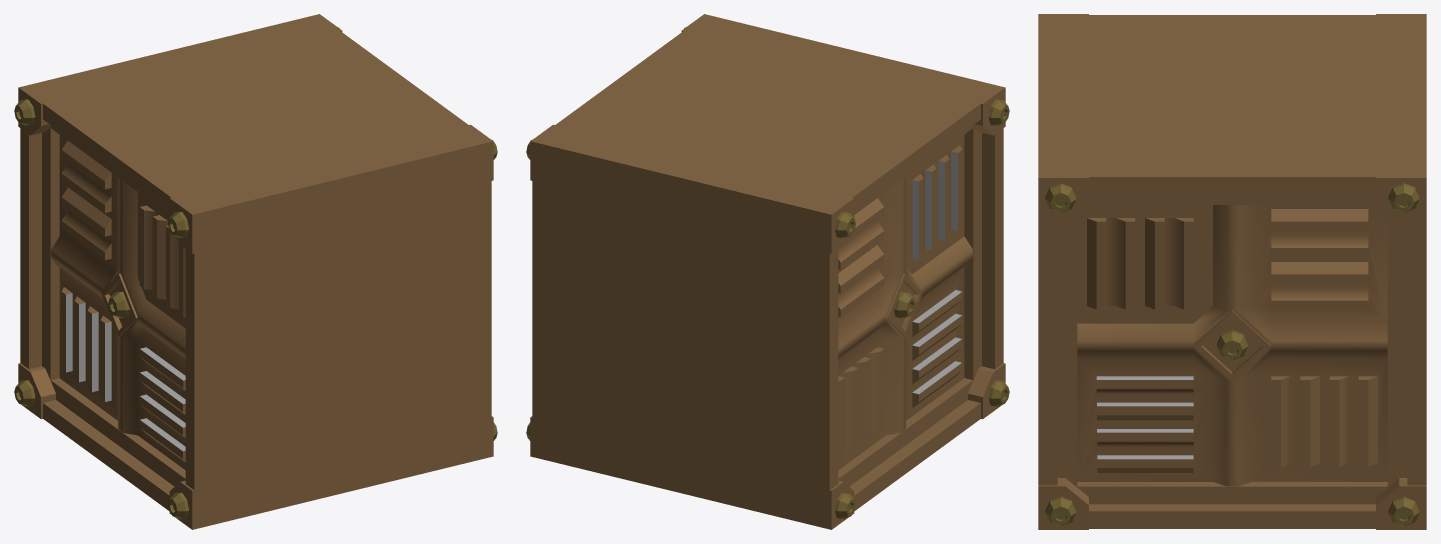
The model's file is blocknomove2.fbx.
The picture shows the model from 3 angles, left to right: view 1: azimuth 30°, elevation 25°; view 2: azimuth 150°, elevation 25°; view 3: azimuth 270°, elevation 25°; orthographic projection. The views are drawn at different scales.
Visible parts, largest first — view 1: polySurface5; view 2: polySurface5; view 3: polySurface5.
Part boxes in pixels (bbox=[...]): polySurface5: bbox=[14, 14, 497, 529]; polySurface5: bbox=[526, 14, 1009, 529]; polySurface5: bbox=[1038, 14, 1426, 529].
Size of the model in its own units: 106 by 100 by 100.
